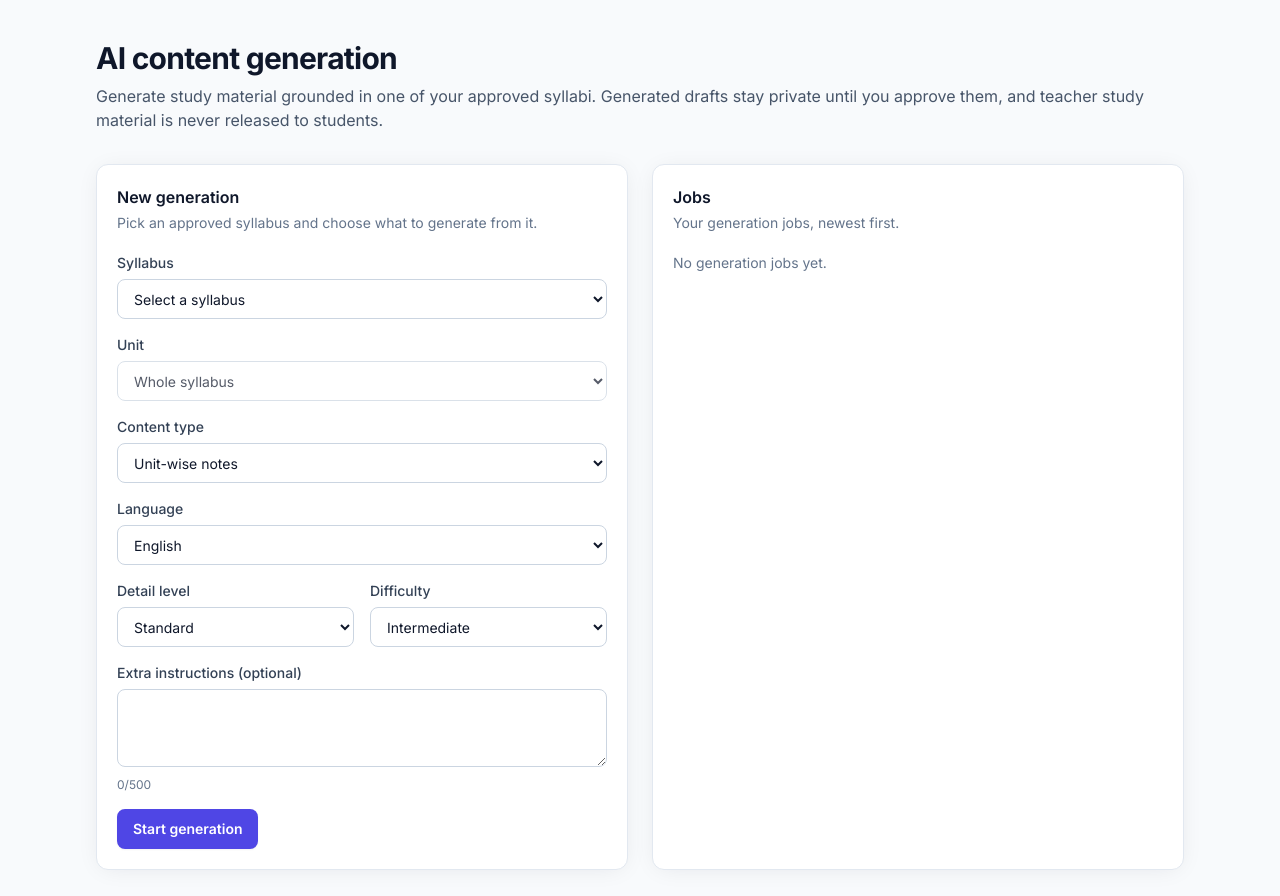
TeacherContent › offers the answer key option only for assignments
Expected: the field labelled "answer key" is not shown
Select "Assignments & questions" in the dropdown labelled "Content type" at (362, 463), box [117,443,607,483]
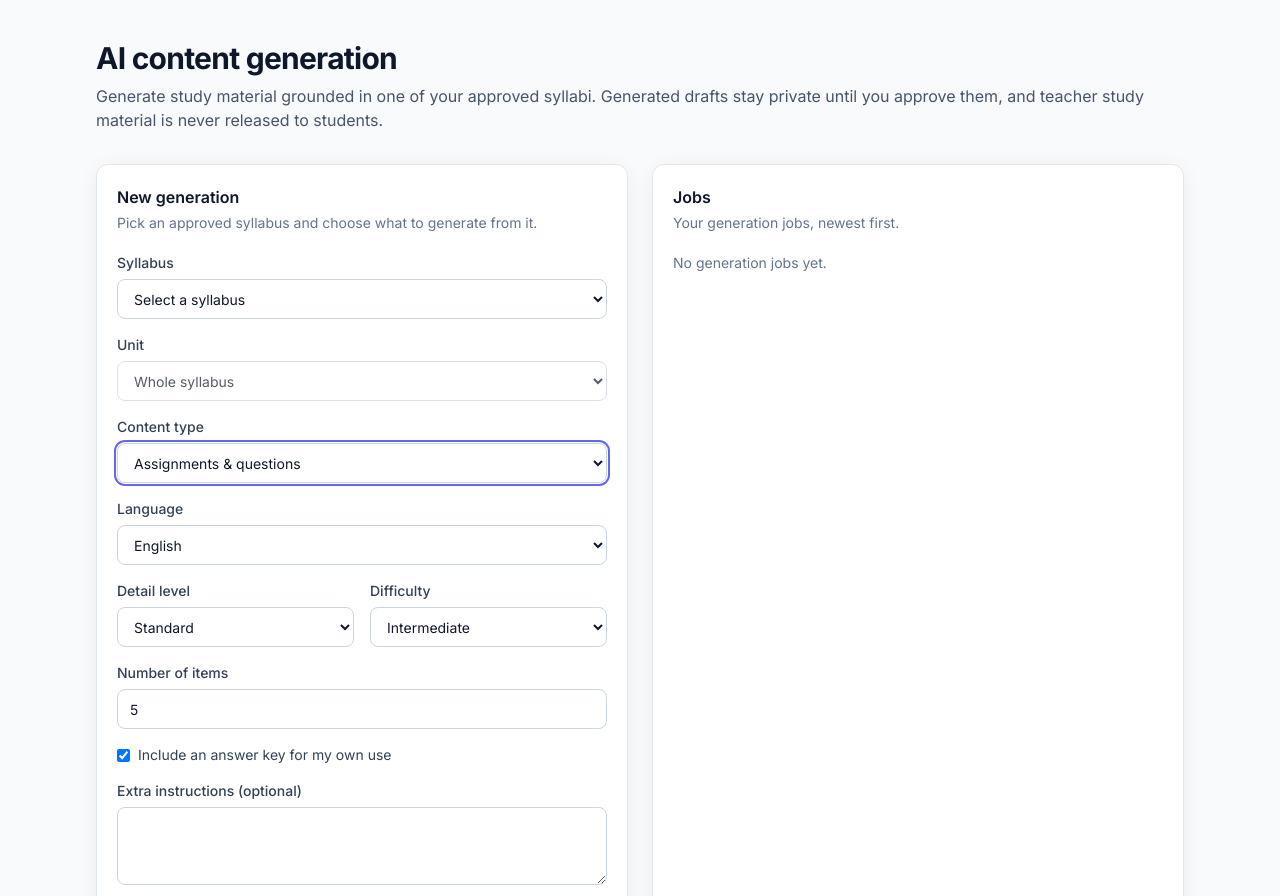
Now the checkbox labelled "Include an answer key for my own use" is shown, box [117,748,130,762]
